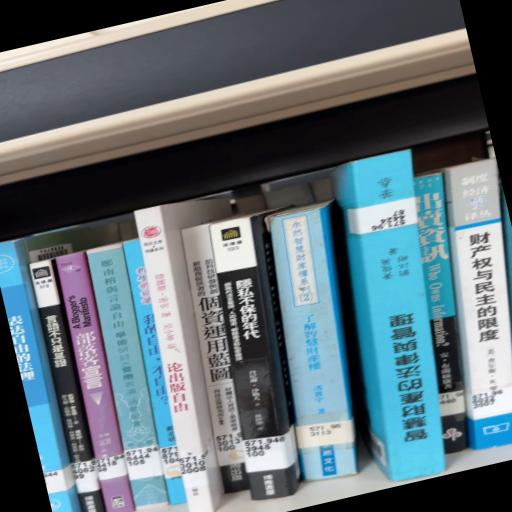reverse: (333, 150, 445, 481)
